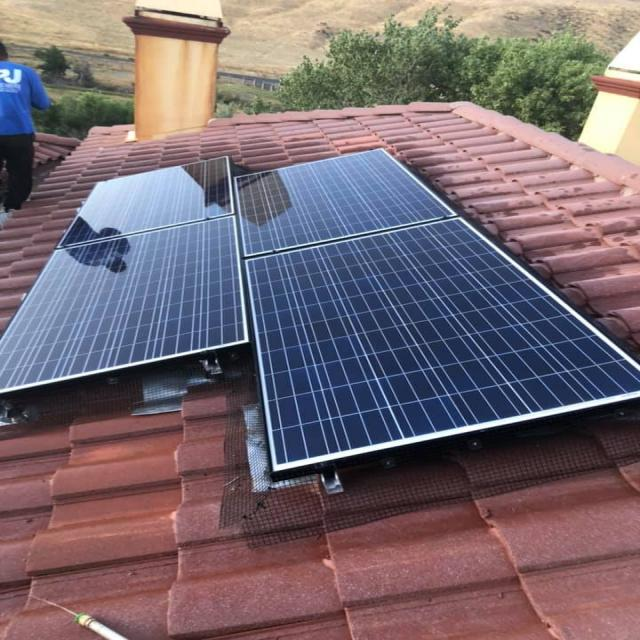no faulty: (238, 215, 638, 472), (4, 215, 238, 383), (236, 153, 451, 257), (58, 157, 247, 247)
